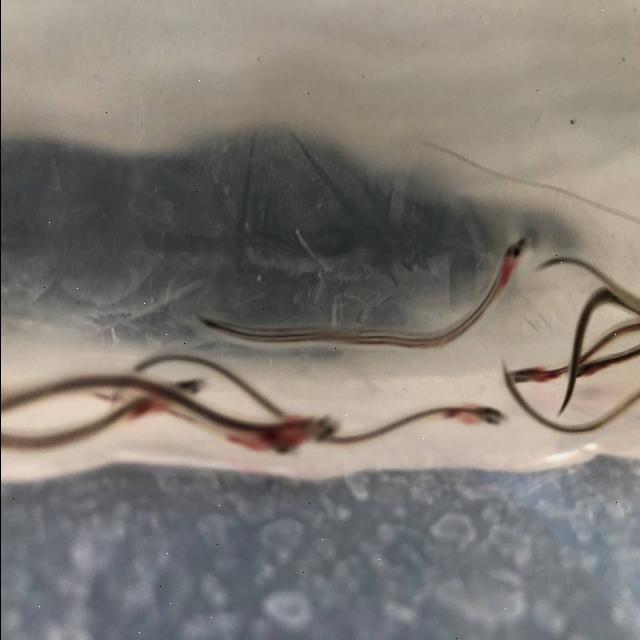glass_eel: (445, 380, 505, 444), (270, 408, 346, 454), (154, 368, 208, 430), (500, 348, 550, 399), (492, 226, 530, 293)
